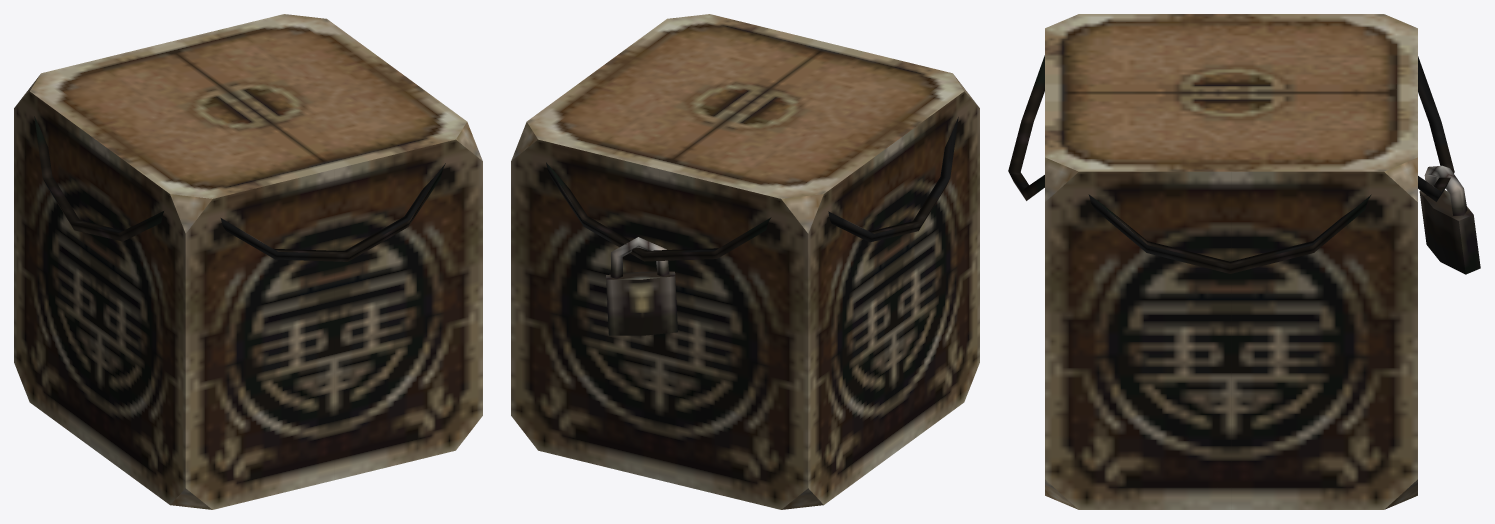
The model's file is general_obj_itembox02.fbx.
3 renders of one model, left to right at view 1: azimuth 30°, elevation 25°; view 2: azimuth 150°, elevation 25°; view 3: azimuth 270°, elevation 25°, orthographic. The views are drawn at different scales.
Parts seen in each view (by area): view 1: Object07; view 2: Object07; view 3: Object07.
Boxes of the visible parts, x1=… form: Object07: x1=14, y1=14, x2=482, y2=509; Object07: x1=511, y1=14, x2=979, y2=509; Object07: x1=1008, y1=14, x2=1480, y2=509.
Bounding box in the file's own units: 1.13 × 0.9485 × 1.2.
